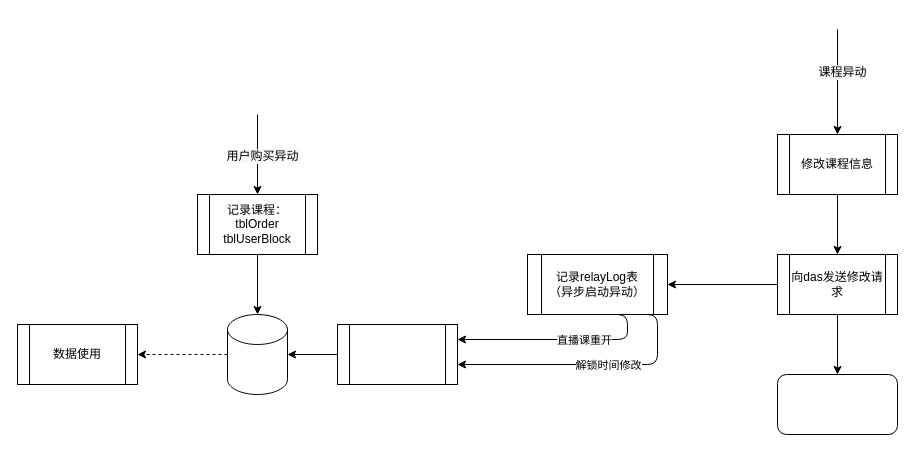
The diagram is 915 pixels wide and 452 high, and some of its shapes have lost their labels. The shapes that lost their labels are listed below. From the top down, each one's centre as x and y in pixels, then its label:
the point at 257,354: DB
the point at 397,354: 异动
the point at 837,404: commit
